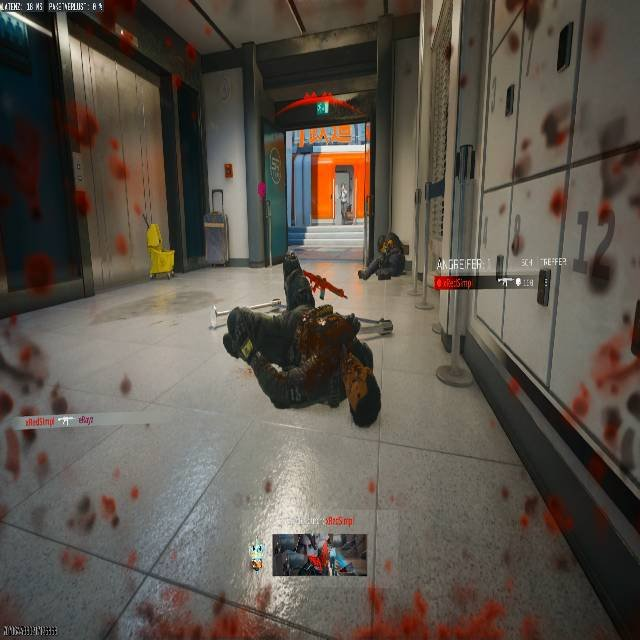head: (377, 233, 394, 252)
player: (357, 232, 409, 281)
